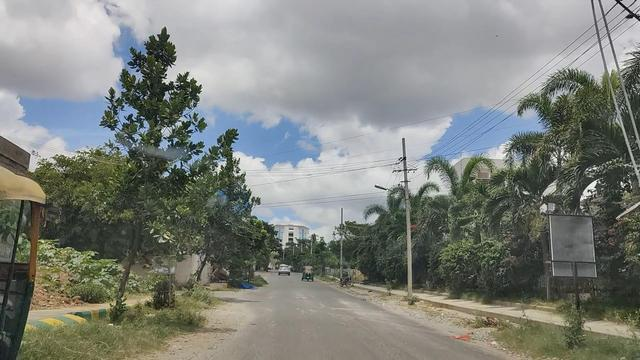RoadDamages: (318, 292, 393, 325)
